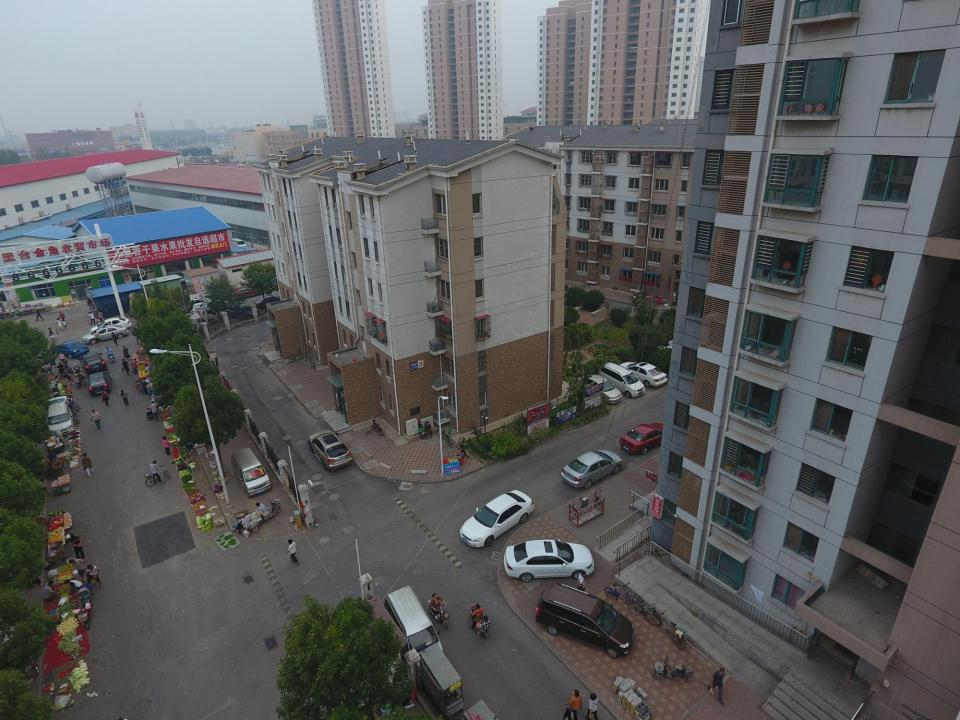car: (460, 490, 534, 547), (504, 538, 594, 583), (561, 449, 623, 489), (308, 429, 352, 471), (619, 422, 670, 454), (578, 374, 622, 404), (619, 362, 667, 388), (81, 324, 129, 344), (90, 317, 132, 335), (78, 352, 108, 376), (51, 340, 89, 358), (85, 371, 111, 397)
van: (535, 582, 635, 659), (384, 586, 446, 667), (231, 447, 272, 498), (599, 362, 645, 398), (47, 396, 74, 437)
